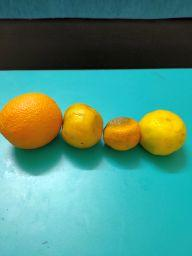orange: (0, 91, 62, 150), (138, 109, 187, 157), (61, 103, 103, 151), (102, 116, 141, 152)
